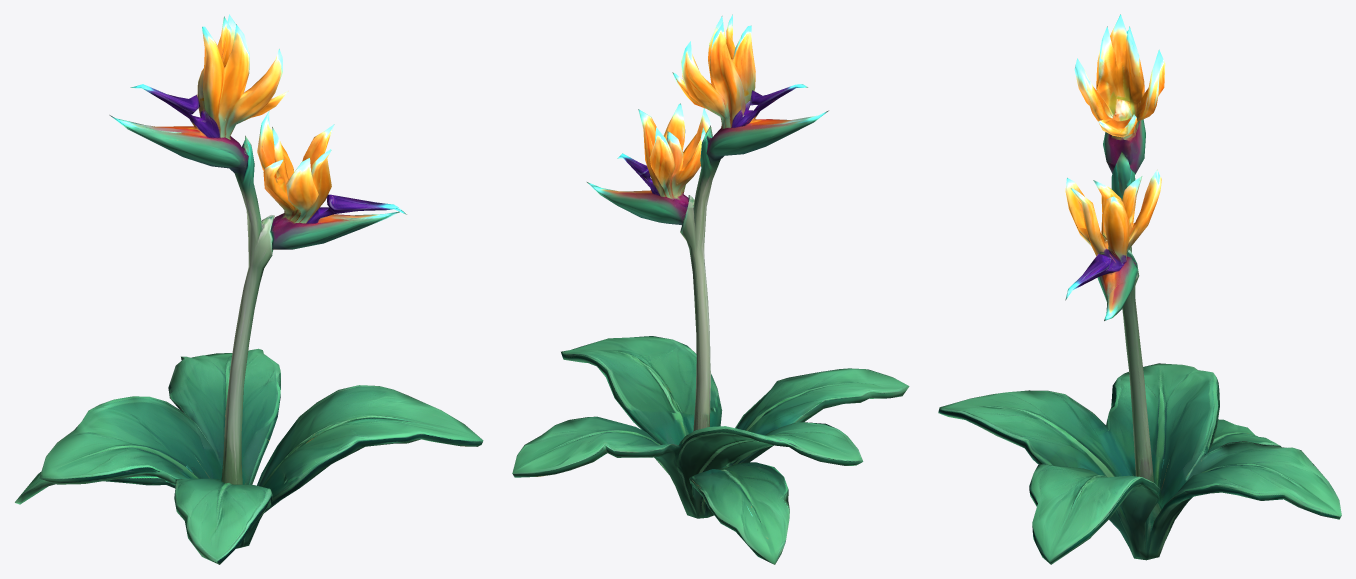
3 renders of one model, left to right at view 1: azimuth 30°, elevation 25°; view 2: azimuth 150°, elevation 25°; view 3: azimuth 270°, elevation 25°, orthographic. The views are drawn at different scales.
Visible parts, largest first — view 1: Mesh_0; view 2: Mesh_0; view 3: Mesh_0.
Boxes of the visible parts, left/top/right/bottom form: Mesh_0: left=15, top=14, right=483, bottom=564; Mesh_0: left=512, top=14, right=909, bottom=564; Mesh_0: left=938, top=14, right=1341, bottom=564.
Size of the model in its own units: 1.44 by 1.91 by 1.35.
1 material, 1 textured.
